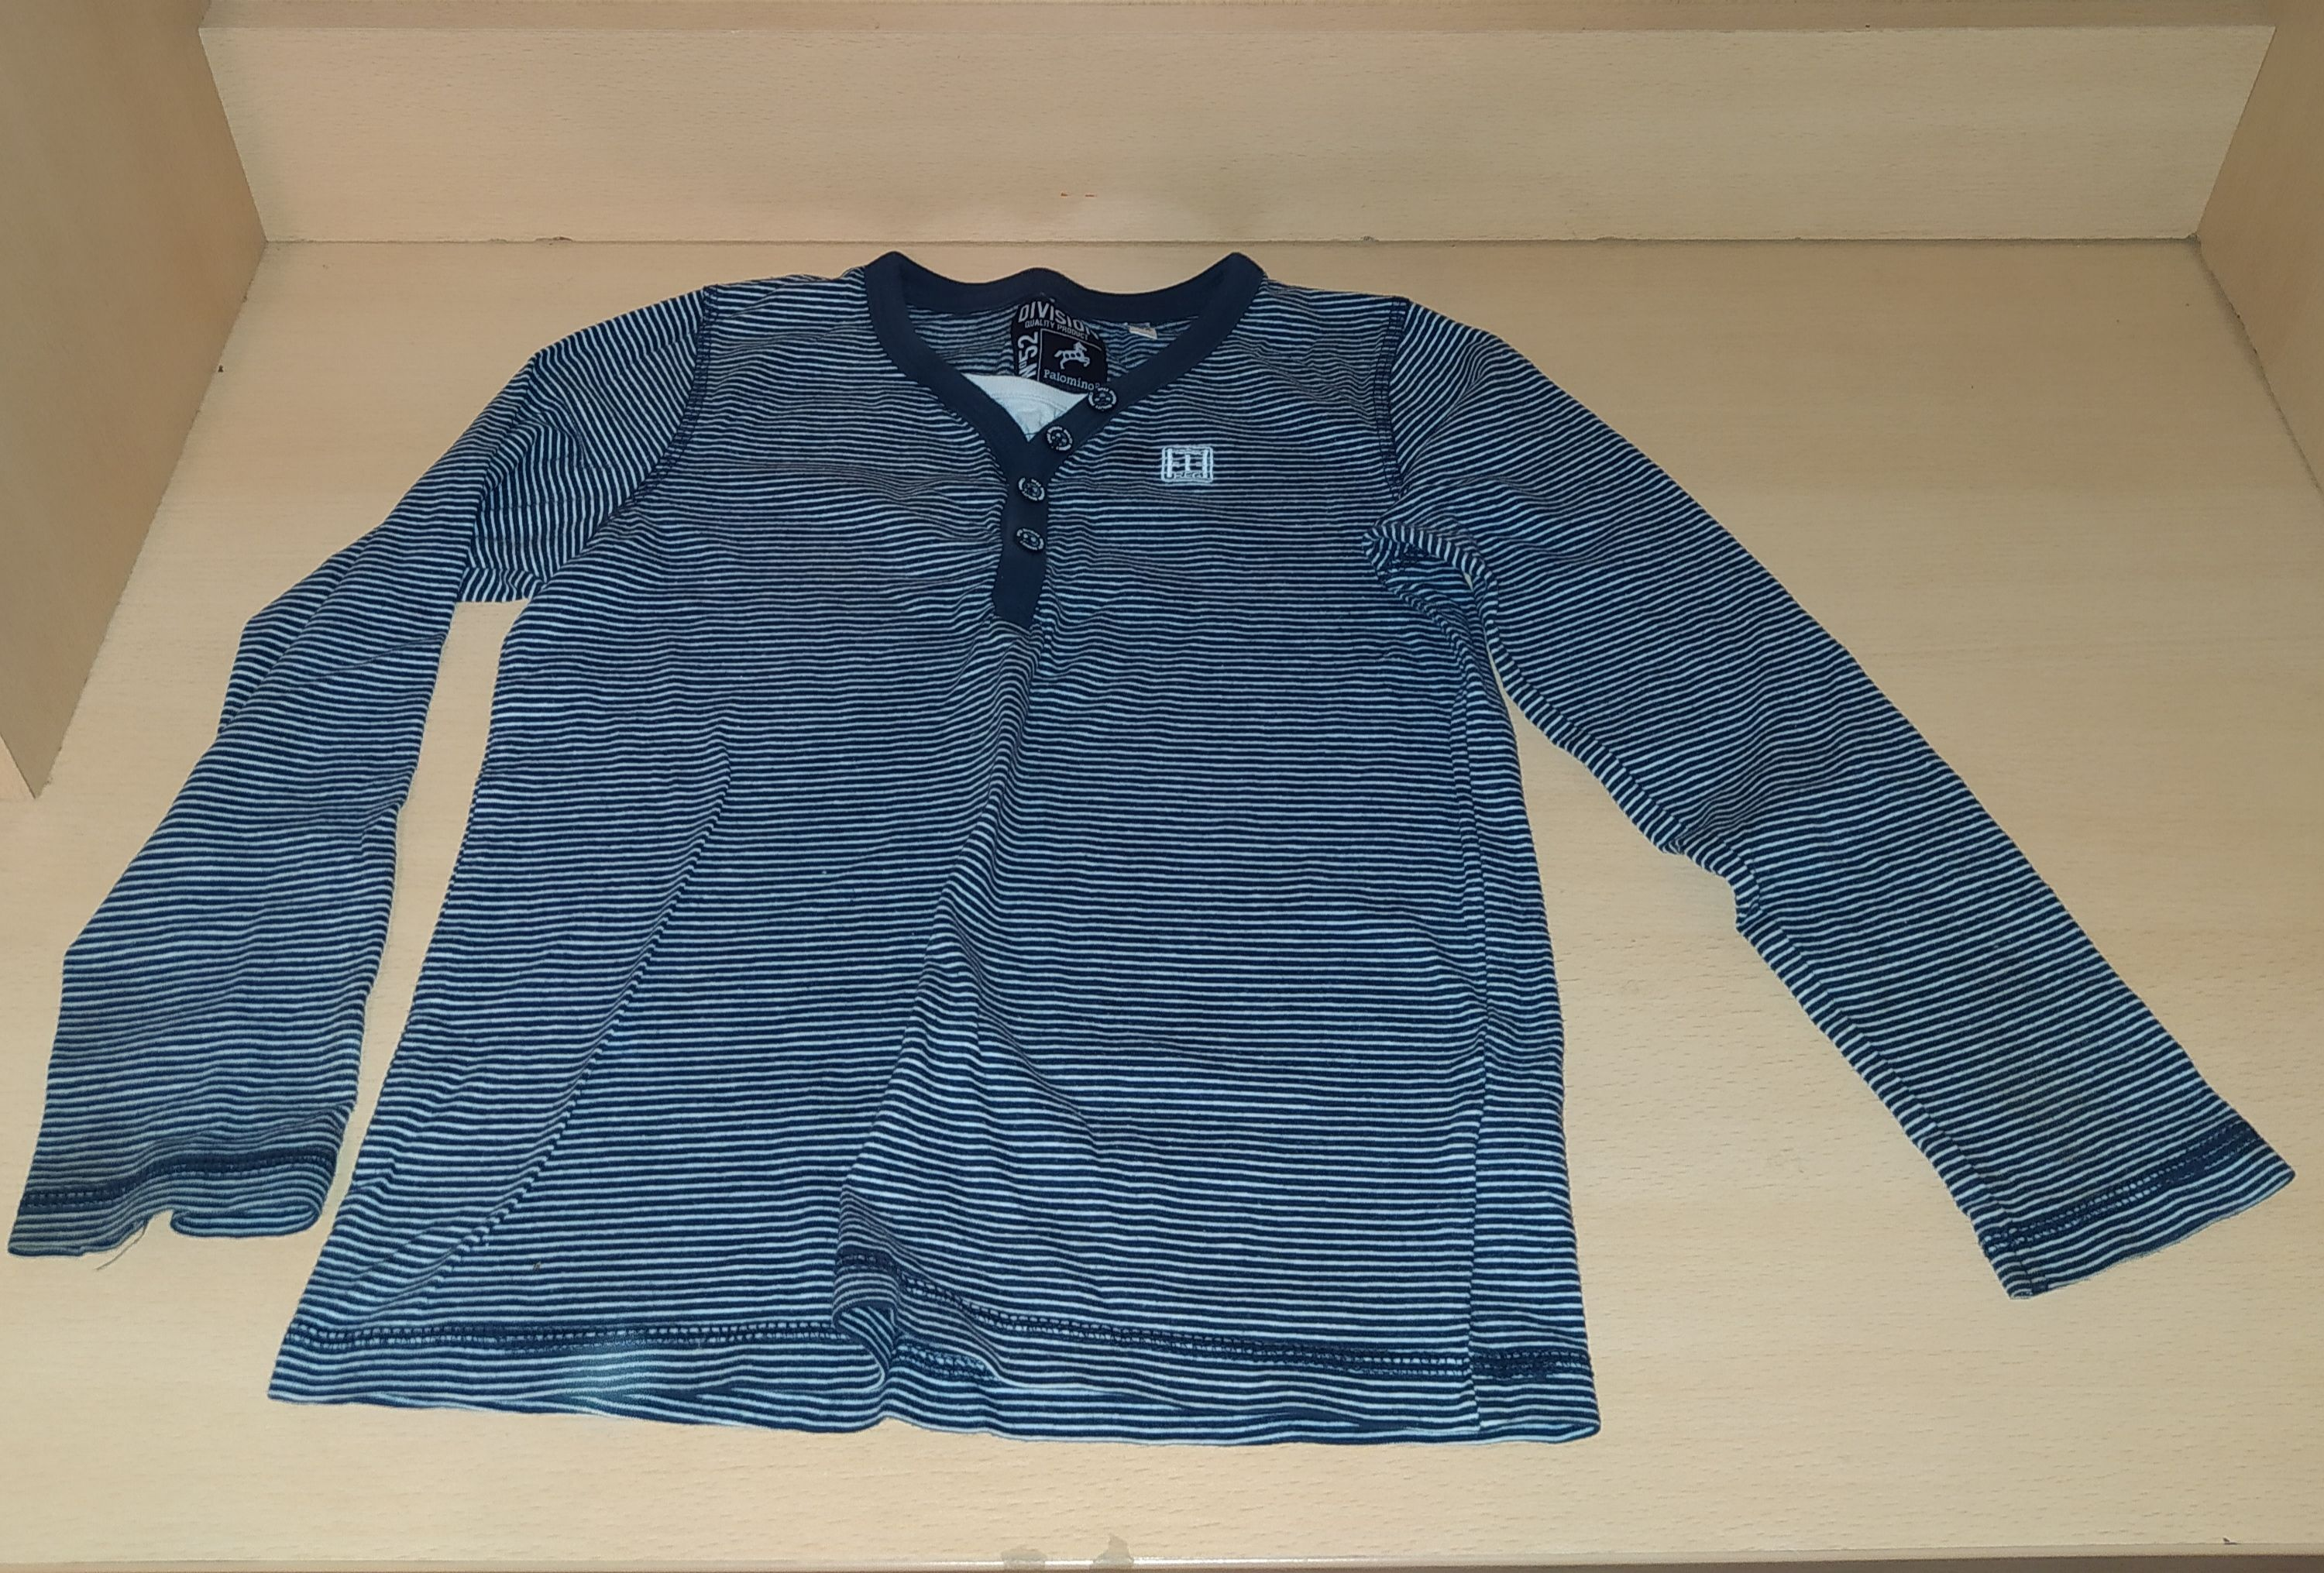clothes: (7, 249, 2264, 1436)
